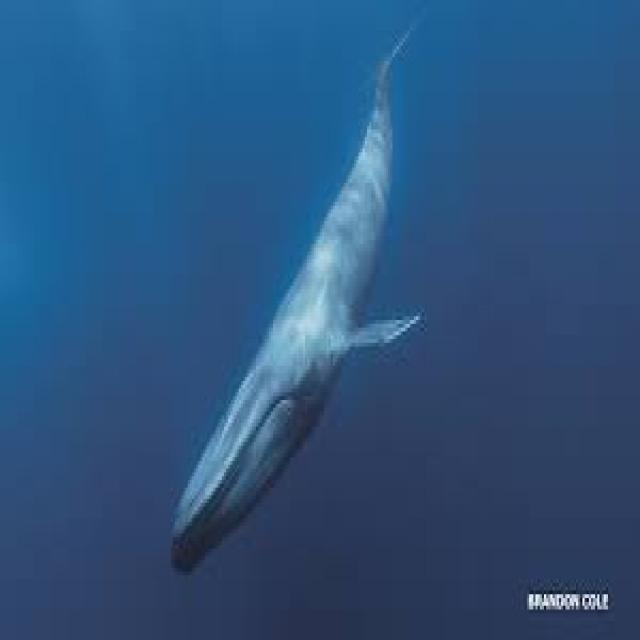blue_whale: (160, 0, 435, 640)
